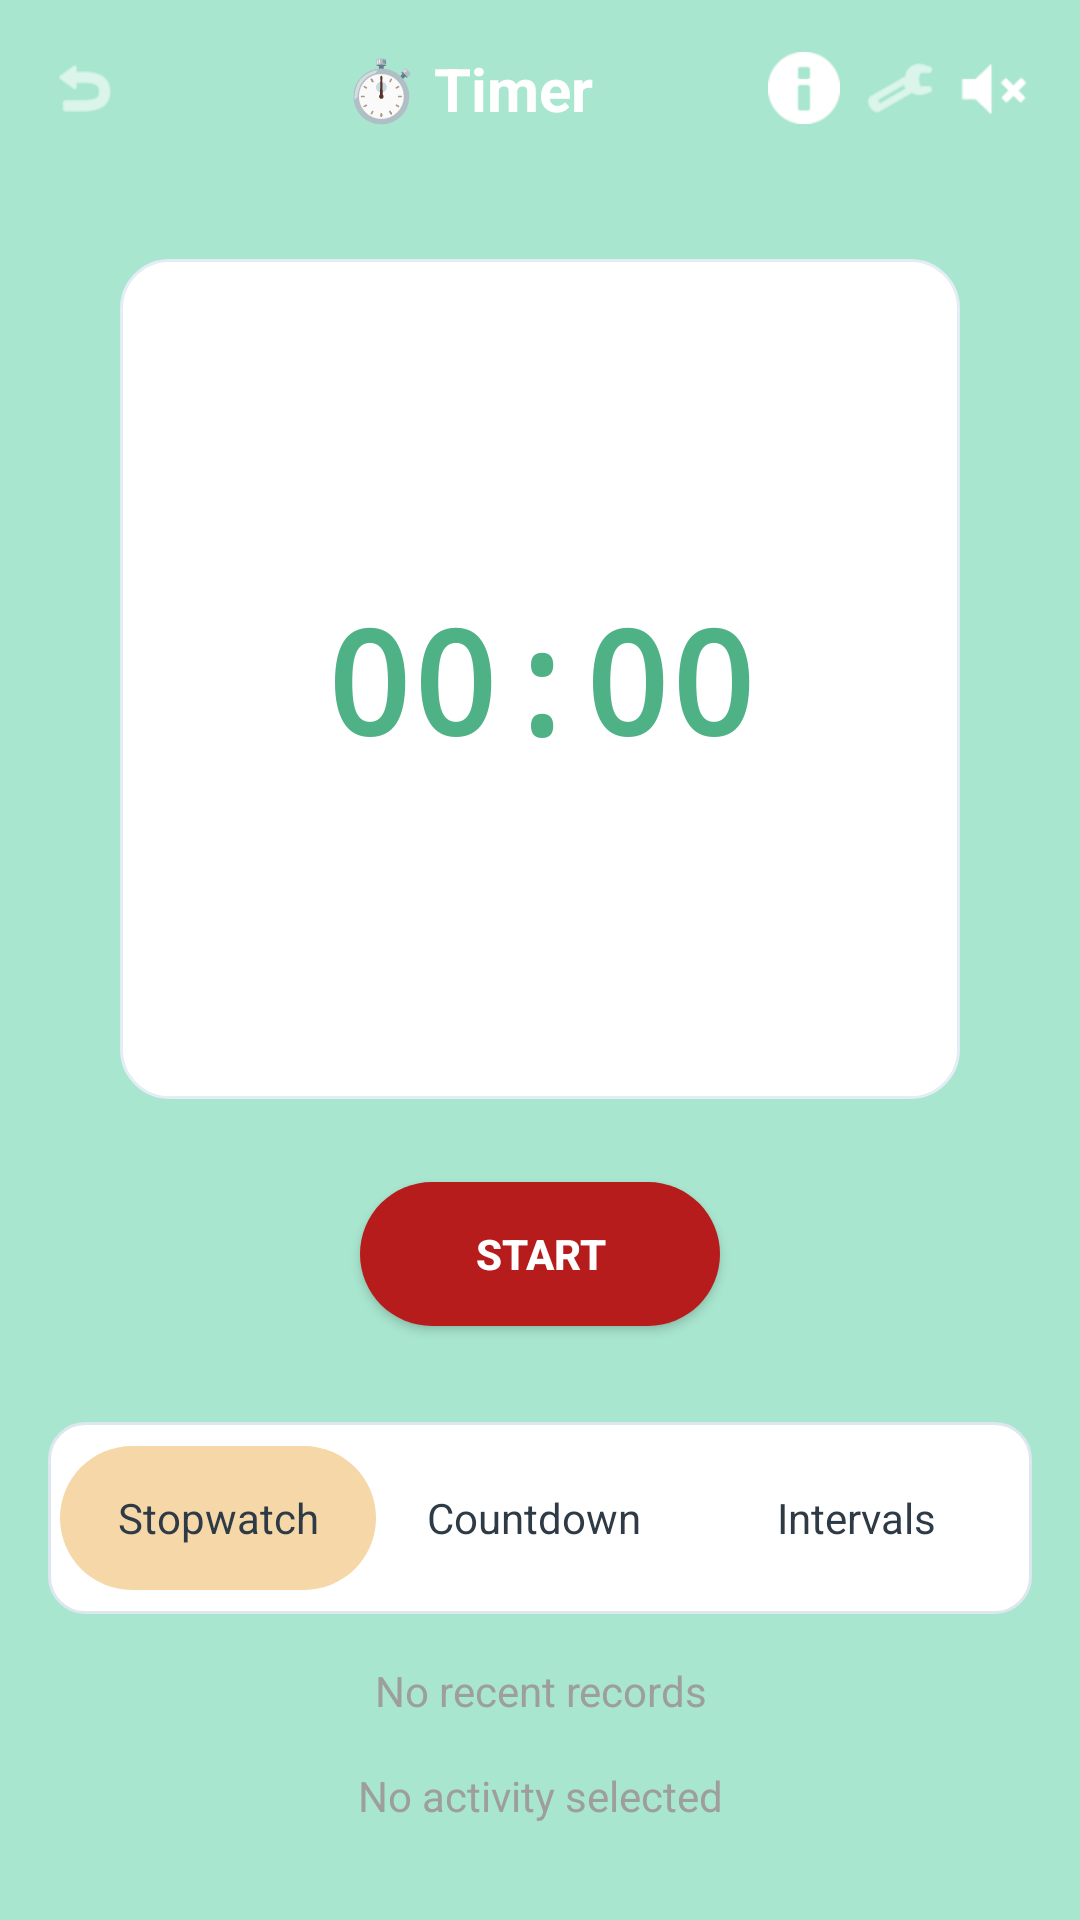

Screen size 1080×1920. Icon name, then its center in pixels as (x,y):
info: (804,88)
lock silent mode: (994,89)
manage: (900,88)
revert: (84,89)
